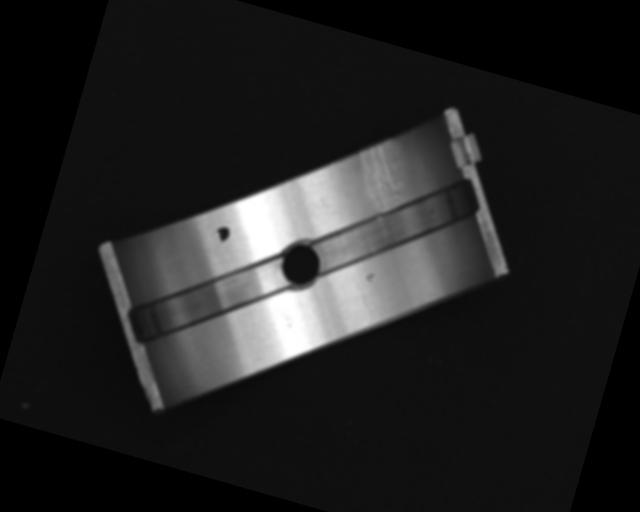blot: (213, 223, 232, 244)
bruise: (364, 271, 376, 283)
gap: (307, 143, 485, 304), (121, 224, 294, 377)
hole: (275, 238, 325, 293)
scratch: (344, 131, 418, 223)
